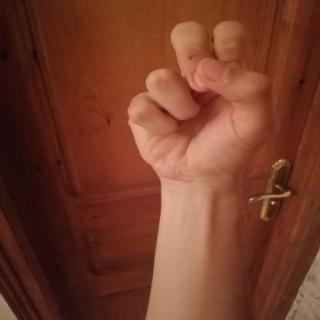QAAF: (108, 10, 288, 195)
